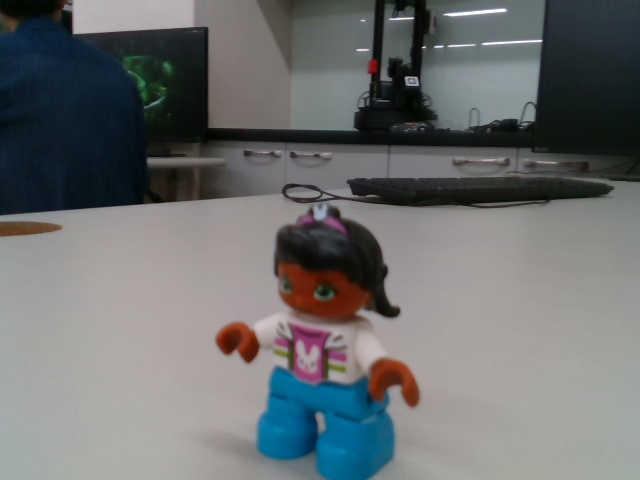people: (214, 200, 424, 480)
